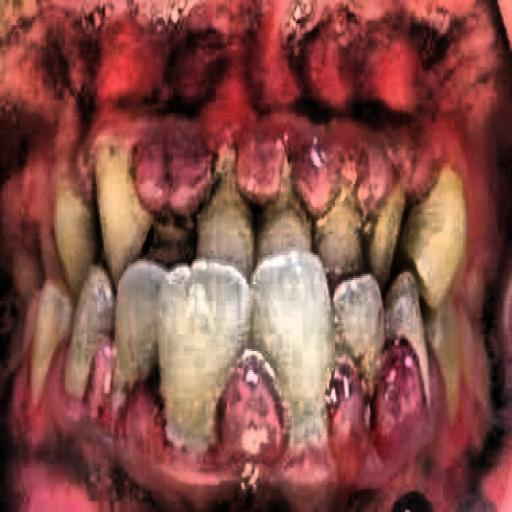Gingivitis: (9, 56, 512, 231), (14, 336, 473, 495)
